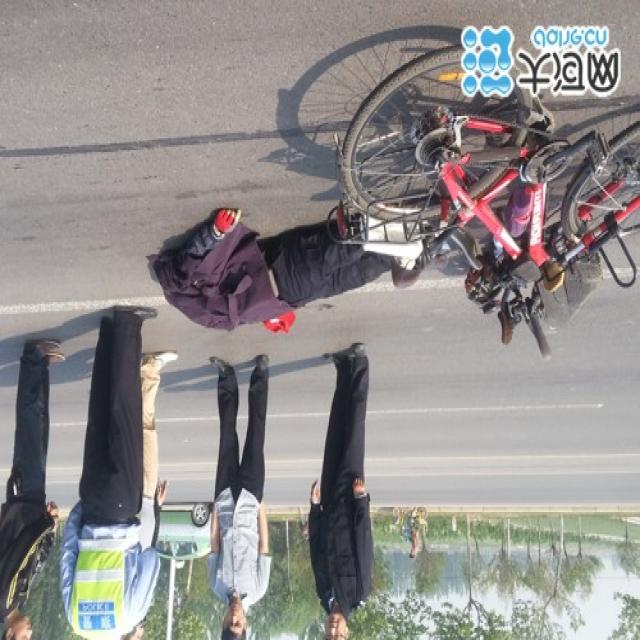nofight: (130, 183, 406, 340), (64, 304, 165, 640), (194, 359, 286, 640), (308, 346, 390, 640), (0, 320, 52, 635)
